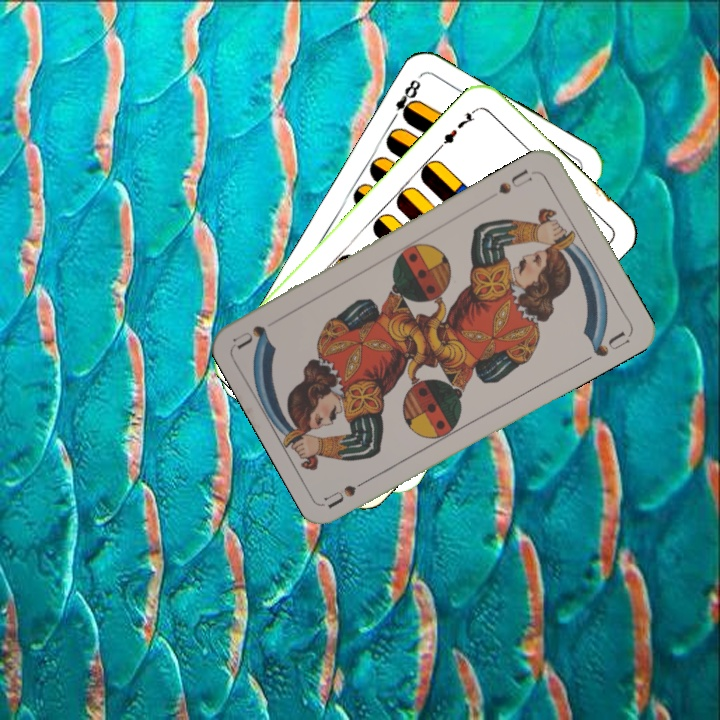E7: (435, 105, 481, 151)
E8: (387, 75, 424, 125)
SU: (322, 471, 378, 510), (494, 165, 540, 197)
